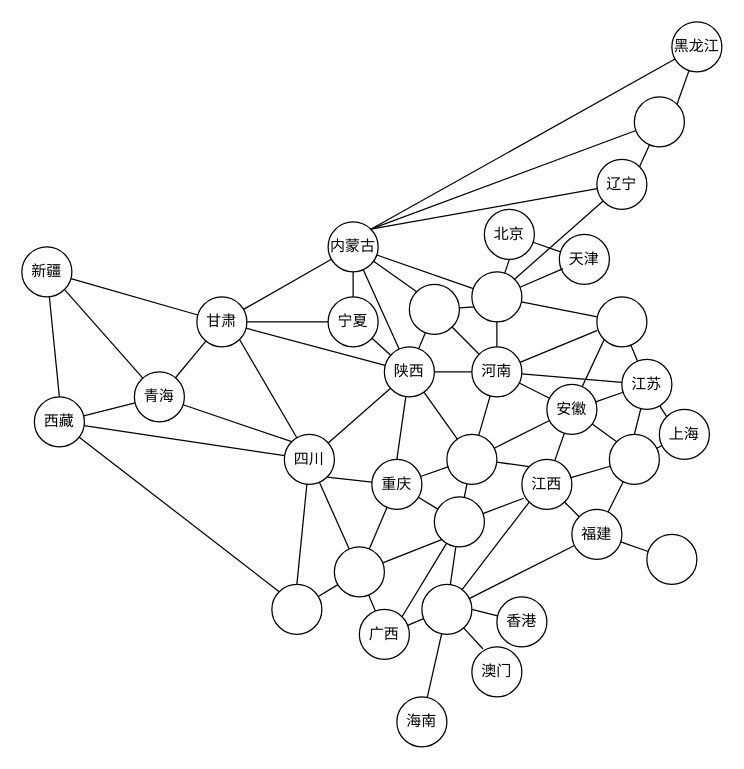
Image size: 744x769. Some labels were removed from this diagram. The centre of each missing label's shape, as x and y in pixels:
"云南" belongs at (x=296, y=608).
"台湾" belongs at (x=671, y=558).
"吉林" belongs at (x=658, y=121).
"山东" belongs at (x=621, y=321).
"山西" belongs at (x=433, y=308).
"广东" belongs at (x=446, y=608).
"河北" belongs at (x=496, y=296).
"浙江" belongs at (x=633, y=458).
"湖北" belongs at (x=471, y=458).
"湖南" belongs at (x=458, y=521).
"贵州" belongs at (x=358, y=571).
